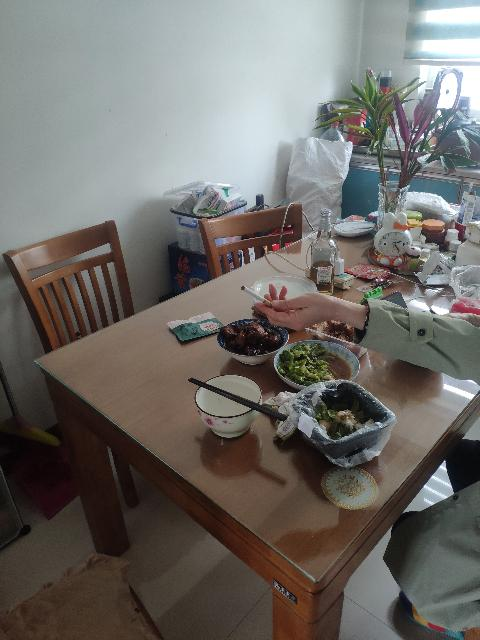Cigarette: (240, 286, 274, 308)
